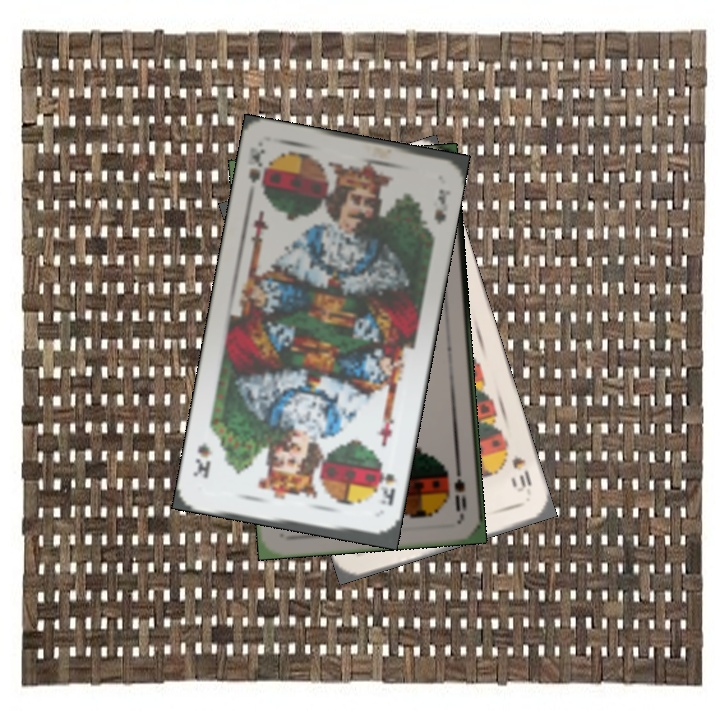S10: (508, 452, 534, 495)
SK: (244, 145, 270, 198), (371, 460, 398, 509)
SO: (450, 459, 469, 518)
